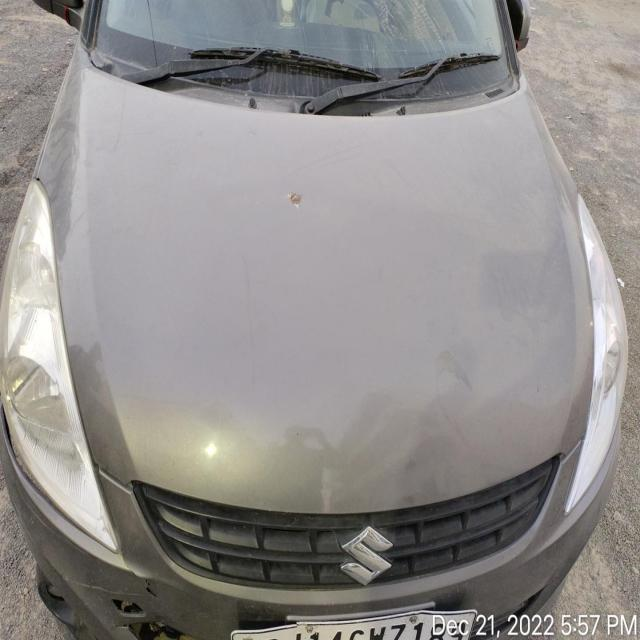damage: (137, 621, 189, 640), (112, 598, 146, 620)
